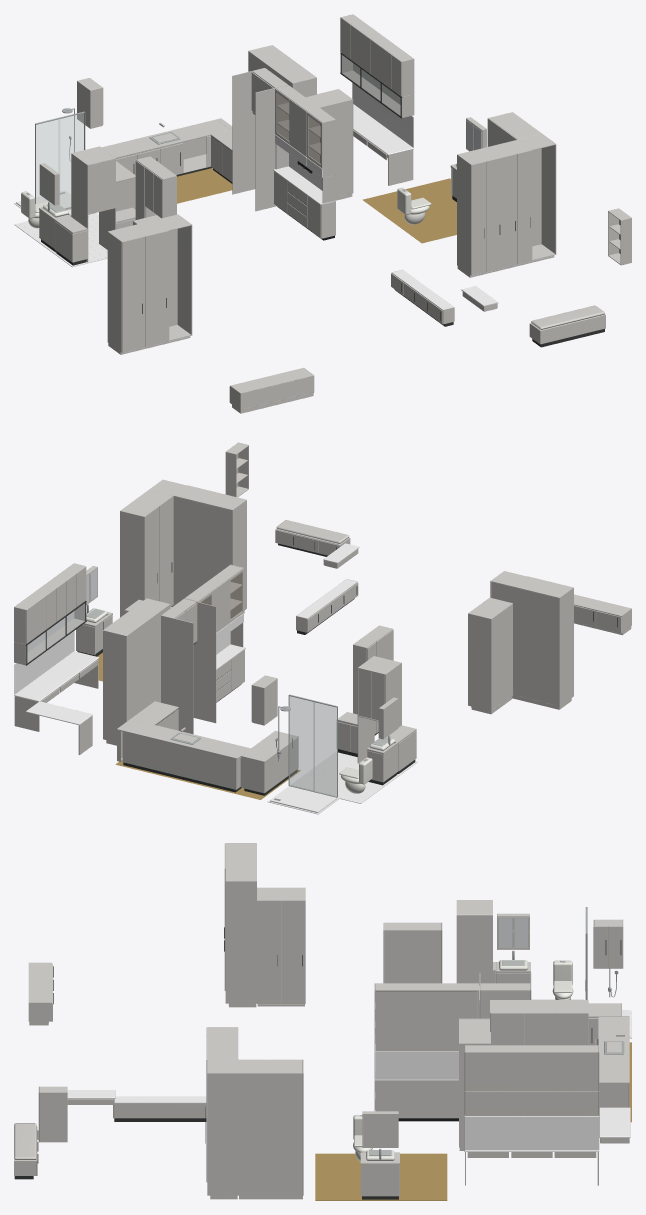
The model's file is joinery-only.glb.
The picture shows the model from 3 angles, top to bottom: view 1: azimuth 30°, elevation 25°; view 2: azimuth 150°, elevation 25°; view 3: azimuth 270°, elevation 25°; orthographic projection. The views are drawn at different scales.
Parts seen in each view (by area): view 1: V8_bathB_gold_grout, V10_C05_main_bay2_leaf1_white_door, C12_fridge_enclosure_north, V10_C05_main_bay1_leaf1_white_door, C12_fridge_enclosure_south, V10_C06_main_bay1_leaf1_white_door, V10_C06_main_bay2_leaf2_white_door, V10_C06_main_bay1_leaf2_white_door, V8_S01_return_back, V10_C05_main_right_side, V10_C06_main_left_side, V10_C05_main_left_side (+35 smaller); view 2: V10_C05_main_back, V10_C06_main_back, C08_back, C12_fridge_enclosure_north, V8_S01_main_back, C12_fridge_enclosure_south, V8_S01_main_right_side, SH01_V10_sliding_clear_glass, Floor_bathA, V10_C05_north_return_right_side, V10_C06_east_return_left_side, SH01_V10_fixed_clear_glass (+33 smaller); view 3: V10_C06_east_return_back, C02_upper_back, S04_back, S02_backsplash, V8_bathB_gold_grout, V10_C05_main_right_side, V10_C06_main_right_side, S05_back, C01_v10_back, C02_lower_back, V10_C05_north_return_bay1_leaf1_white_door, V10_C05_north_return_bay2_leaf1_white_door (+29 smaller).
Part boxes in pixels (box(x1,y1,x2,y2)): V8_bathB_gold_grout: box(362, 178, 456, 243); V10_C05_main_bay2_leaf1_white_door: box(145, 230, 169, 346); C12_fridge_enclosure_north: box(232, 68, 264, 194); V10_C05_main_bay1_leaf1_white_door: box(122, 236, 145, 352); C12_fridge_enclosure_south: box(255, 84, 288, 211); V10_C06_main_bay1_leaf1_white_door: box(471, 161, 486, 275); V10_C06_main_bay2_leaf2_white_door: box(517, 150, 532, 264); V10_C06_main_bay1_leaf2_white_door: box(486, 157, 501, 271); V8_S01_return_back: box(320, 100, 352, 196); V10_C05_main_right_side: box(177, 214, 192, 335); V10_C06_main_left_side: box(457, 154, 471, 275); V10_C05_main_left_side: box(107, 231, 122, 352); V10_C05_main_back: box(491, 582, 558, 705); V10_C06_main_back: box(173, 496, 231, 604); C08_back: box(123, 731, 235, 789); C12_fridge_enclosure_north: box(161, 615, 193, 734); V8_S01_main_back: box(127, 604, 169, 721); C12_fridge_enclosure_south: box(184, 598, 216, 723); V8_S01_main_right_side: box(103, 630, 126, 742); SH01_V10_sliding_clear_glass: box(289, 696, 314, 791); Floor_bathA: box(268, 751, 417, 814); V10_C05_north_return_right_side: box(468, 613, 491, 711); V10_C06_east_return_left_side: box(120, 510, 143, 617); SH01_V10_fixed_clear_glass: box(313, 702, 336, 796); V10_C06_east_return_back: box(239, 1074, 302, 1194); C02_upper_back: box(376, 991, 477, 1050); S04_back: box(465, 1052, 598, 1090); S02_backsplash: box(464, 1116, 599, 1150); V8_bathB_gold_grout: box(315, 1153, 447, 1200); V10_C05_main_right_side: box(225, 880, 256, 1003); V10_C06_main_right_side: box(207, 1072, 238, 1195); S05_back: box(465, 1091, 598, 1114); C01_v10_back: box(384, 930, 441, 983); C02_lower_back: box(376, 1081, 458, 1117); V10_C05_north_return_bay1_leaf1_white_door: box(257, 900, 281, 1003); V10_C05_north_return_bay2_leaf1_white_door: box(281, 900, 305, 1003).
Bounding box in the file's own units: 10.54 × 2.85 × 11.91.
